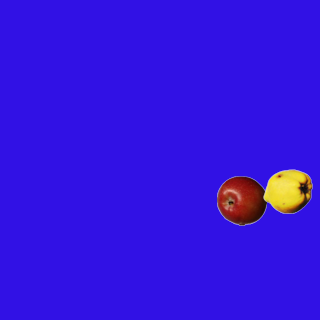Apple Braeburn: (216, 175, 266, 225)
Quince: (262, 166, 312, 216)
